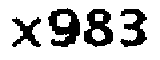3: (117, 6, 148, 52)
8: (83, 6, 115, 50)
9: (45, 7, 82, 52)
x: (9, 14, 42, 54)
